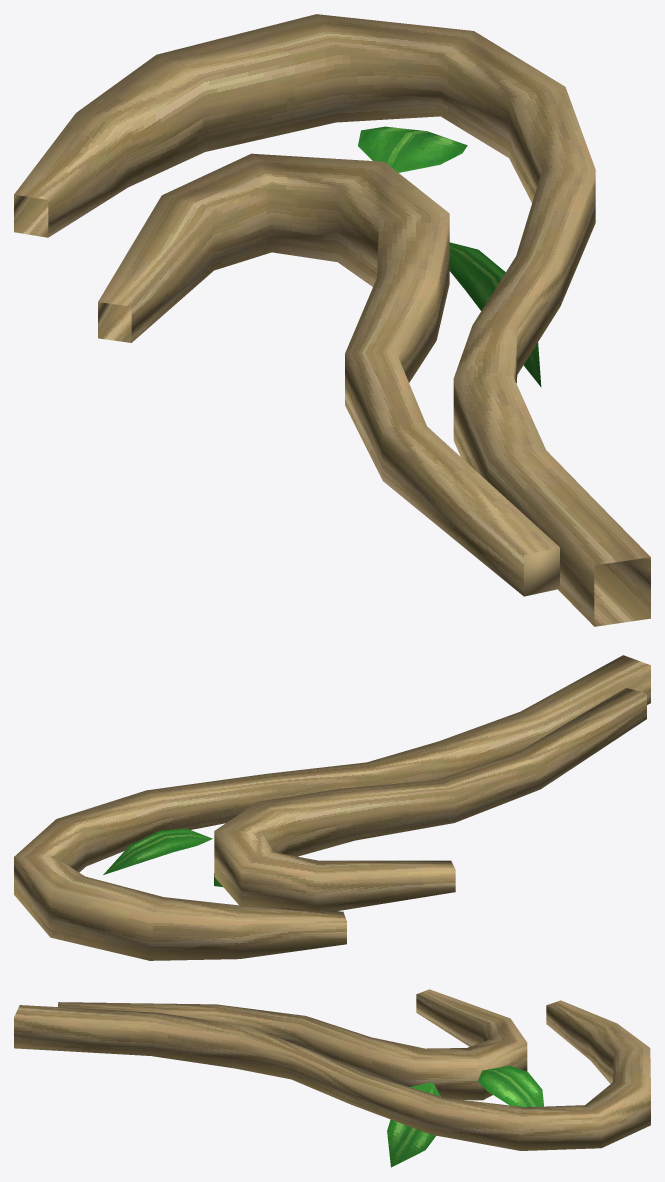
Rendered from EKH_BARRELROOM_ANIM_JA1_GATE02__AI.fbx.
The picture shows the model from 3 angles, top to bottom: view 1: azimuth 30°, elevation 25°; view 2: azimuth 150°, elevation 25°; view 3: azimuth 270°, elevation 25°; orthographic projection. The views are drawn at different scales.
Visible parts, largest first — view 1: EKH_BARRELROOM_ANIM_JA1_GATE02__AI; view 2: EKH_BARRELROOM_ANIM_JA1_GATE02__AI; view 3: EKH_BARRELROOM_ANIM_JA1_GATE02__AI.
Part boxes in pixels (x1,y1,x2,y2): EKH_BARRELROOM_ANIM_JA1_GATE02__AI: (14,14,650,626); EKH_BARRELROOM_ANIM_JA1_GATE02__AI: (14,655,650,960); EKH_BARRELROOM_ANIM_JA1_GATE02__AI: (14,989,650,1167).
Size of the model in its own units: 9065 by 2738 by 17787.
Materials: 2 (2 with a texture image).
